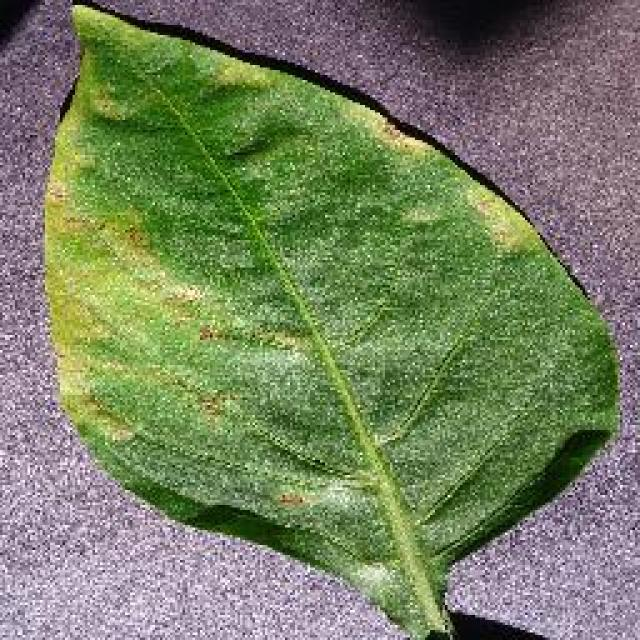Chilli_Bacterial_Spot: (38, 0, 622, 638), (272, 485, 310, 513), (410, 625, 460, 637)
